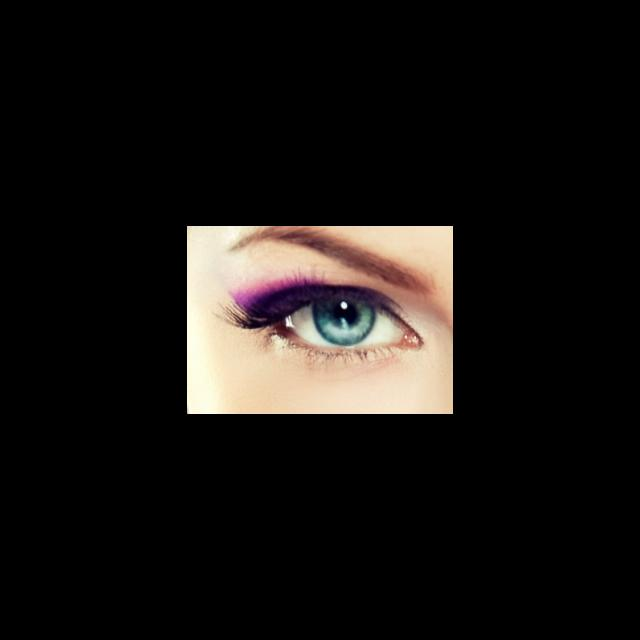eye: (286, 298, 401, 349)
iris: (312, 300, 375, 345)
